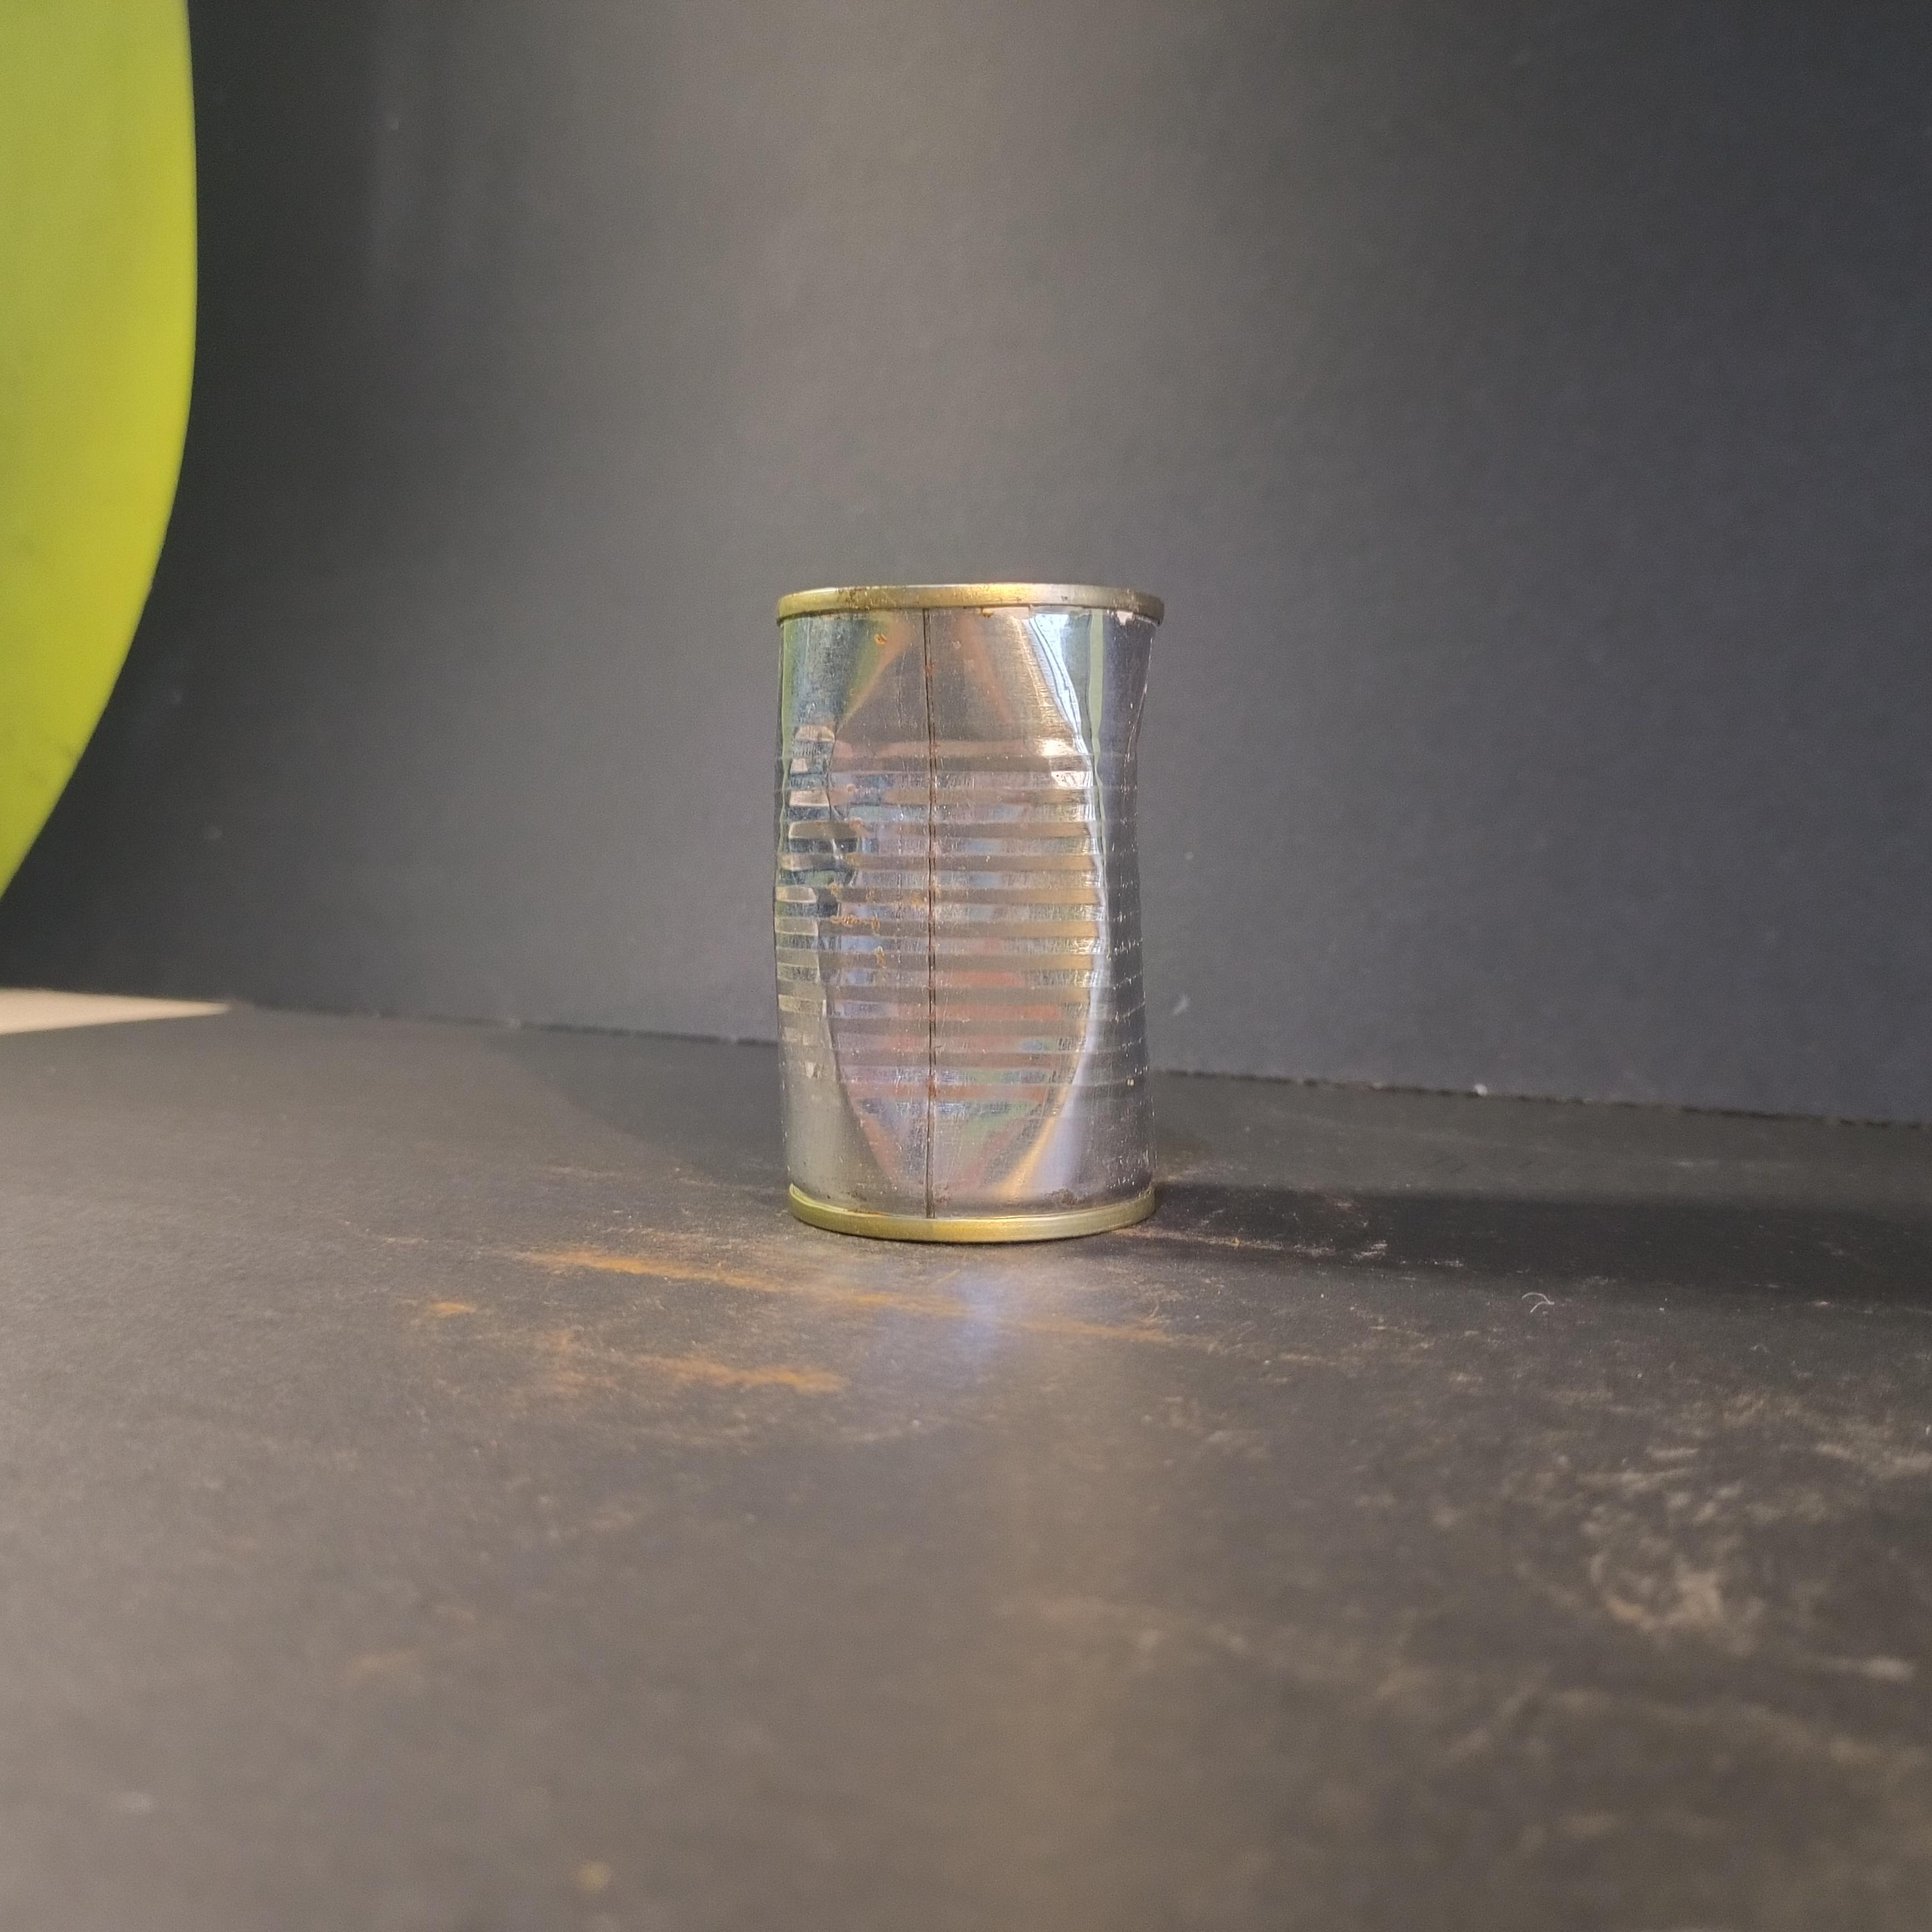Dented: (757, 564, 1196, 1233)
